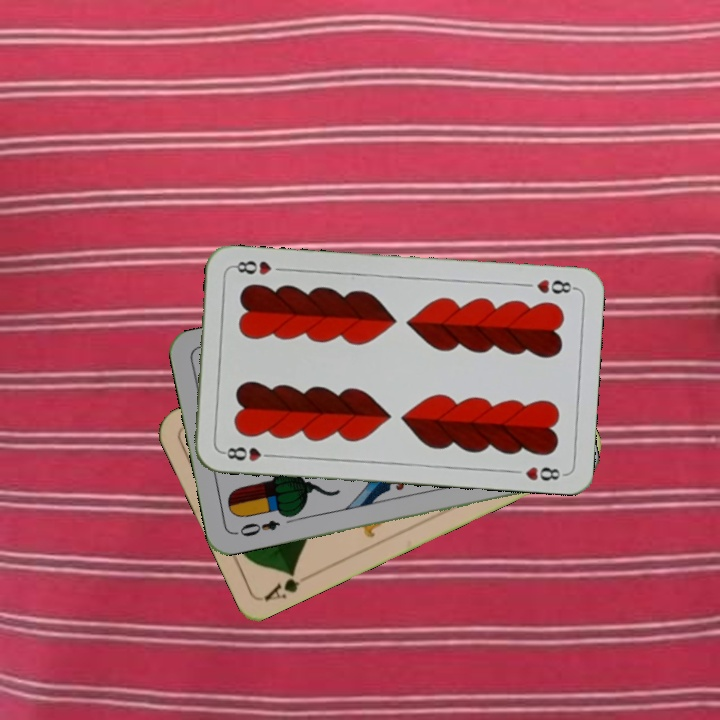EO: (231, 516, 282, 539)
GA: (261, 566, 302, 604)
H8: (218, 443, 277, 464), (532, 275, 578, 296)
